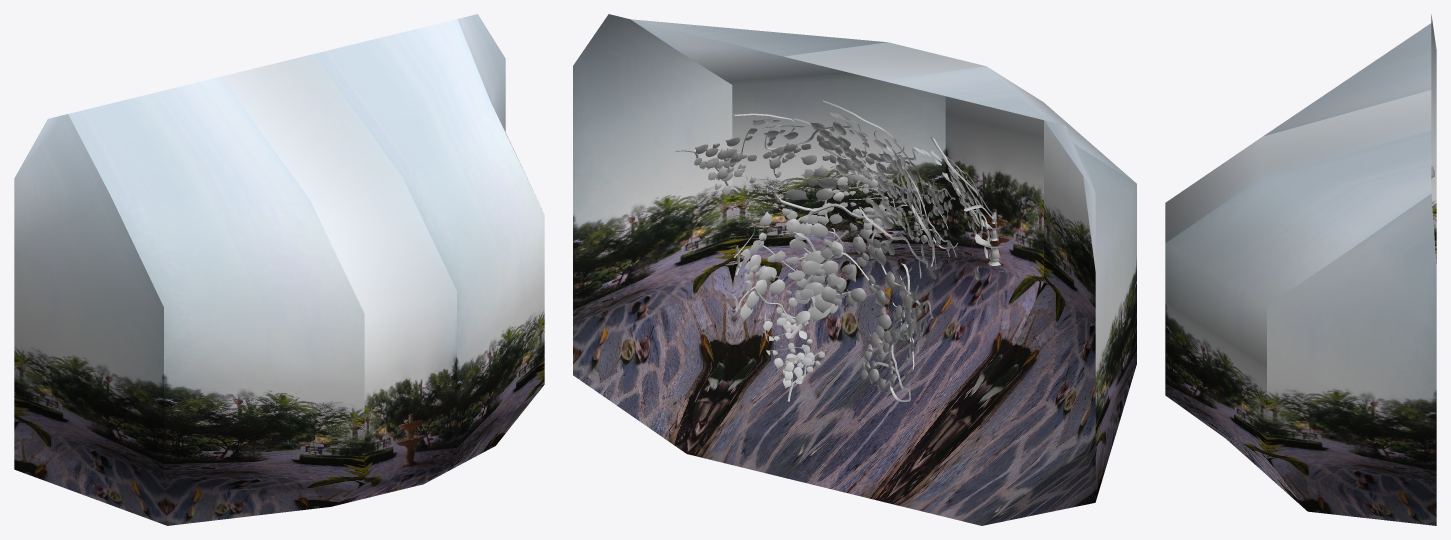
Rendered from AttelierOutdoorSkybox.fbx.
3 views of the same model, side by side, from view 1: azimuth 30°, elevation 25°; view 2: azimuth 150°, elevation 25°; view 3: azimuth 270°, elevation 25° (orthographic). The views are drawn at different scales.
Parts seen in each view (by area): view 1: Fenster.003, Fenster.004, Fenster.005, Fenster.002, Fenster.001; view 2: Fenster.005, Fenster.001, Fenster.002, Fenster.003, Äste.007, Fenster.004; view 3: Fenster.001, Fenster.005, Fenster.002, Fenster.003, Fenster.004.
Boxes of the visible parts, bbox=[...] form: Fenster.003: bbox=[68, 76, 364, 525]; Fenster.004: bbox=[14, 114, 167, 525]; Fenster.005: bbox=[313, 19, 544, 483]; Fenster.002: bbox=[221, 54, 456, 506]; Fenster.001: bbox=[457, 14, 541, 208]; Fenster.005: bbox=[631, 19, 945, 477]; Fenster.001: bbox=[573, 14, 735, 453]; Fenster.002: bbox=[784, 42, 1043, 501]; Fenster.003: bbox=[882, 66, 1135, 525]; Äste.007: bbox=[675, 100, 998, 402]; Fenster.004: bbox=[982, 120, 1136, 525]; Fenster.001: bbox=[1267, 193, 1436, 525]; Fenster.005: bbox=[1165, 130, 1431, 510]; Fenster.002: bbox=[1165, 90, 1431, 242]; Fenster.003: bbox=[1263, 23, 1431, 136]; Fenster.004: bbox=[1431, 14, 1436, 263].
Bounding box in the file's own units: 391 × 299 × 208.
